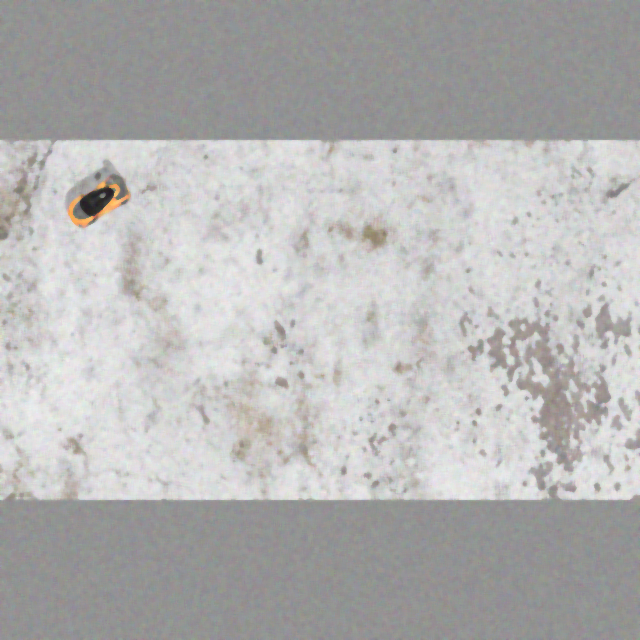car: (57, 168, 136, 232)
